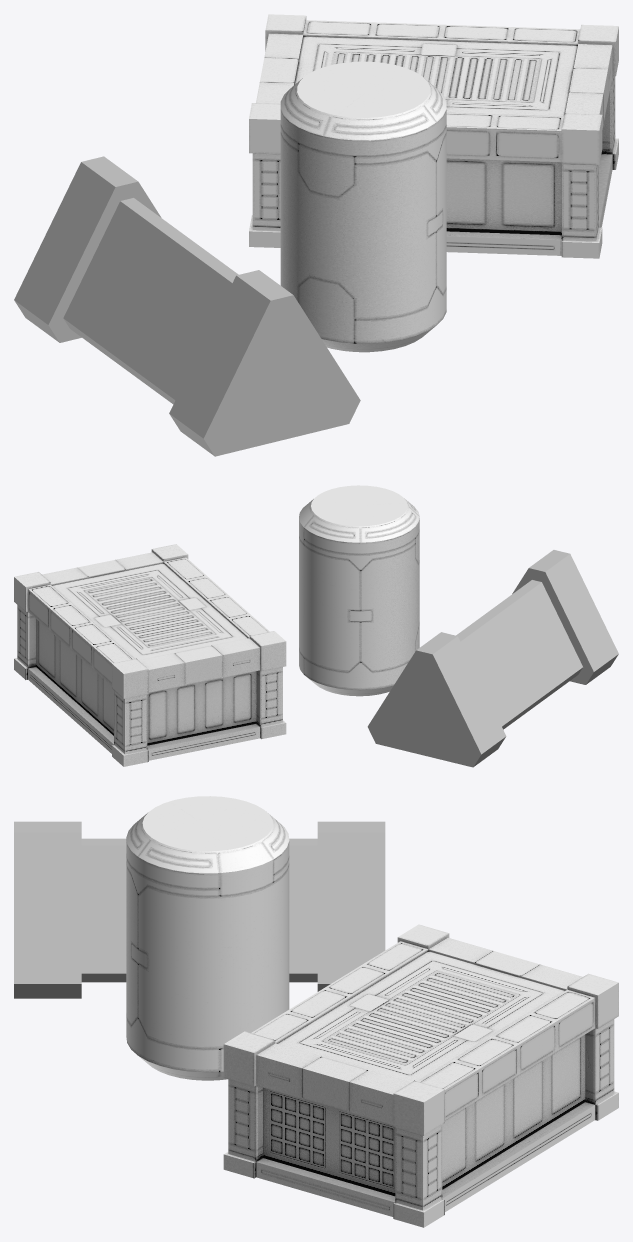
Rendered from Boxes.fbx.
3 renders of one model, top to bottom at view 1: azimuth 30°, elevation 25°; view 2: azimuth 150°, elevation 25°; view 3: azimuth 270°, elevation 25°, orthographic. The views are drawn at different scales.
Parts seen in each view (by area): view 1: SciFiBox2.003, SciFiBox2.001, SciFiBox2.002; view 2: SciFiBox2.003, SciFiBox2.001, SciFiBox2.002; view 3: SciFiBox2.003, SciFiBox2.002, SciFiBox2.001.
Boxes of the visible parts, bbox=[...] form: SciFiBox2.003: bbox=[249, 14, 618, 258]; SciFiBox2.001: bbox=[14, 156, 360, 456]; SciFiBox2.002: bbox=[280, 61, 446, 352]; SciFiBox2.003: bbox=[14, 544, 286, 766]; SciFiBox2.001: bbox=[367, 550, 618, 767]; SciFiBox2.002: bbox=[299, 485, 419, 696]; SciFiBox2.003: bbox=[223, 924, 618, 1227]; SciFiBox2.002: bbox=[126, 796, 289, 1080]; SciFiBox2.001: bbox=[14, 821, 385, 998].
Bounding box in the file's own units: 4.18 × 1.5 × 3.59.
